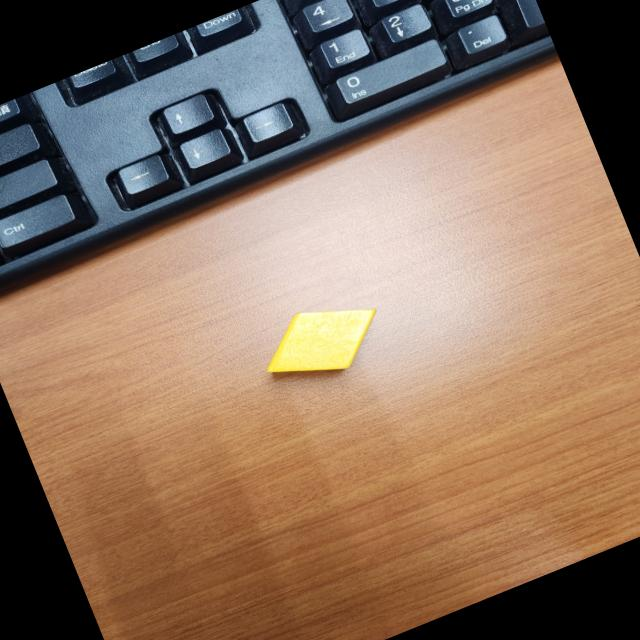yellow: (249, 283, 394, 397)
